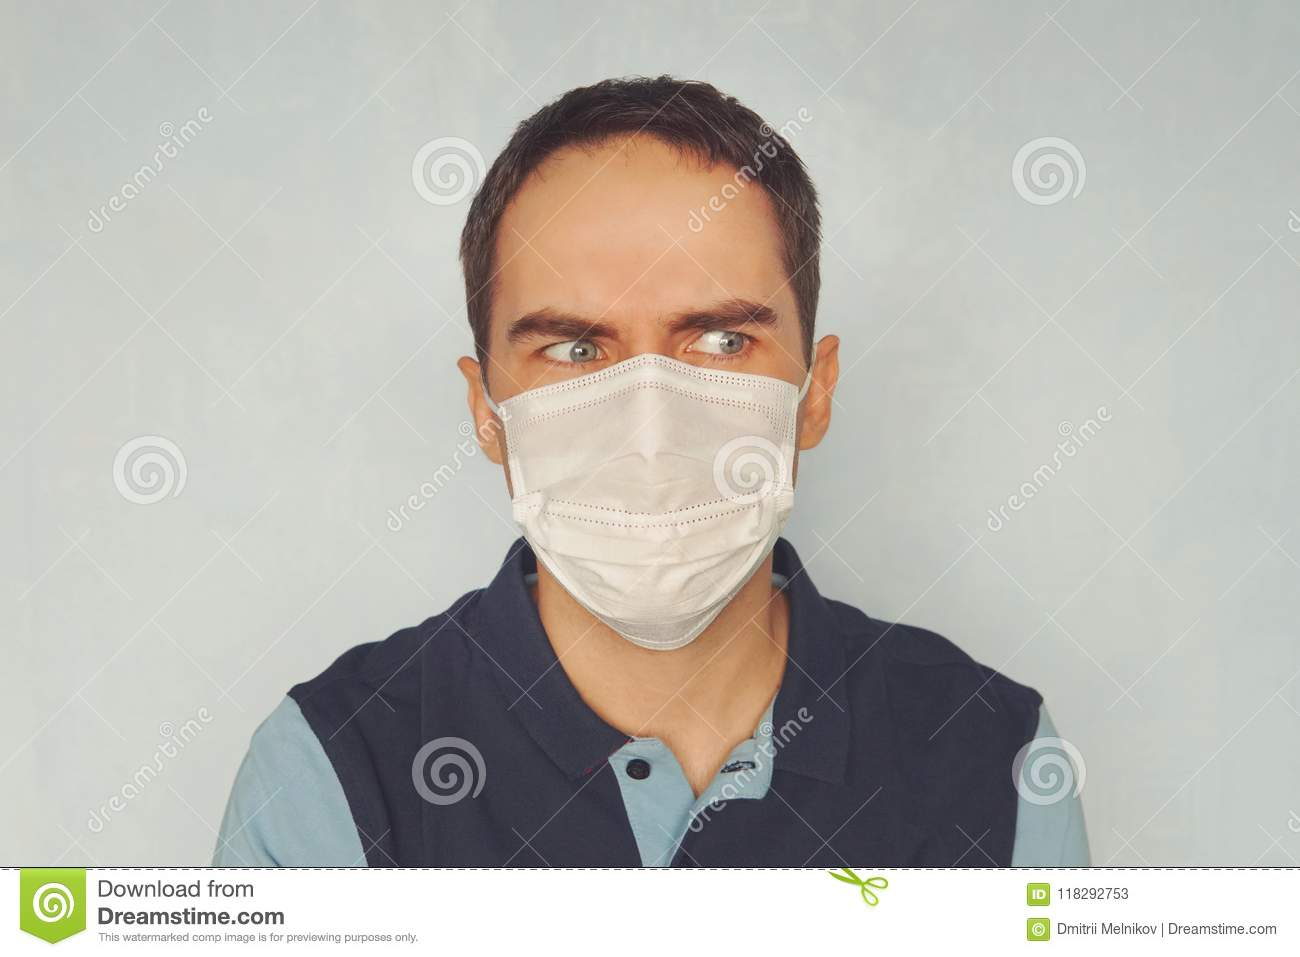mask: (505, 351, 794, 659)
